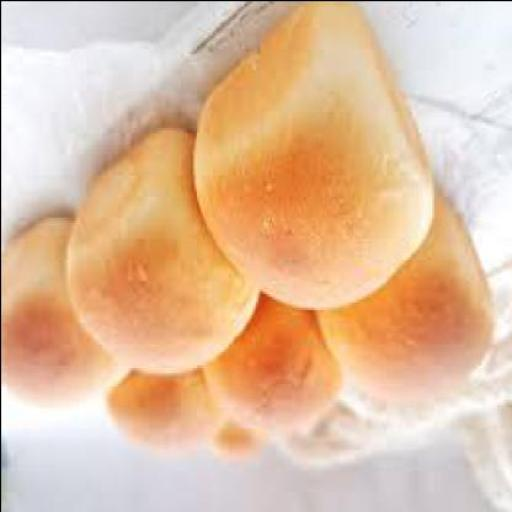biodegradable: (194, 2, 435, 312), (67, 130, 263, 380), (317, 195, 494, 404), (2, 219, 131, 409), (206, 296, 344, 438), (104, 370, 228, 451), (212, 430, 261, 460)
